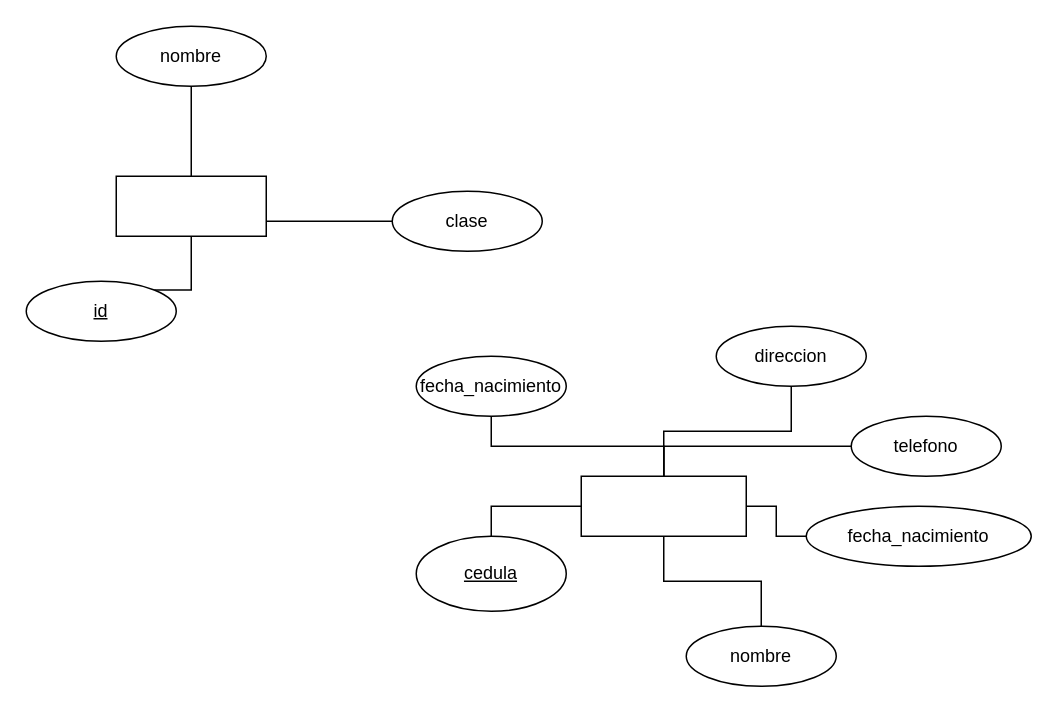
Some shapes in this 1058 by 713 pixel diagram are drawn without their labels. The box of each missing label's shape, as (x1, y1, x2, y2) in pixels:
customer: (580, 475, 746, 536)
product: (115, 175, 266, 236)
